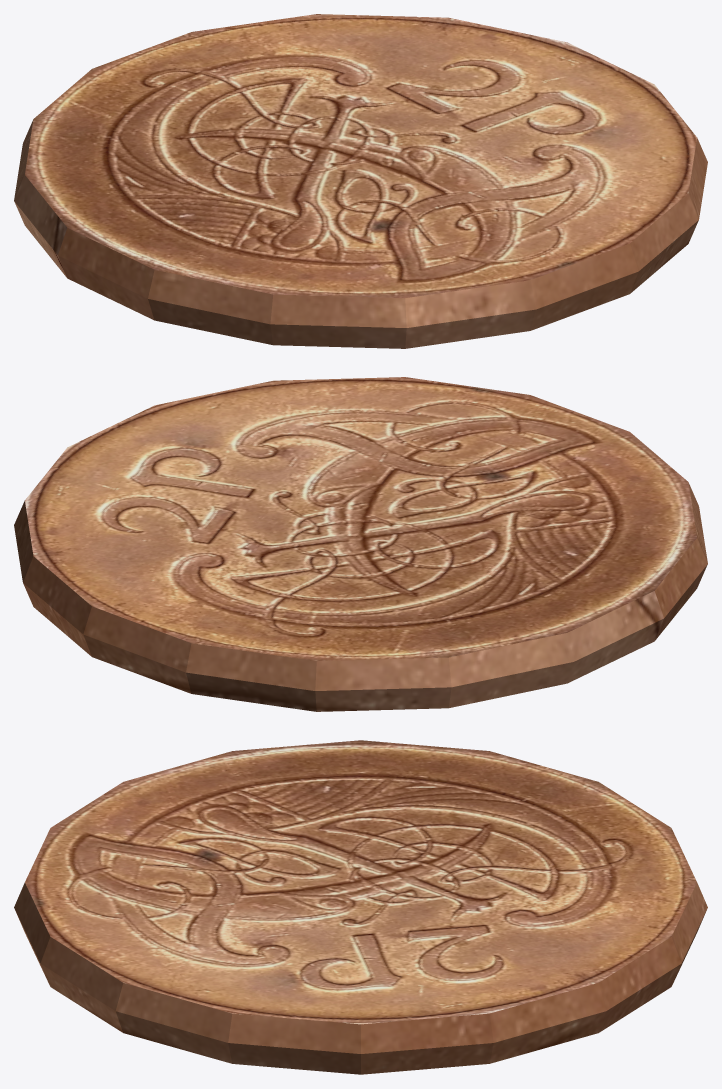
The model's file is coin.glb.
3 renders of one model, top to bottom at view 1: azimuth 30°, elevation 25°; view 2: azimuth 150°, elevation 25°; view 3: azimuth 270°, elevation 25°, orthographic.
Parts seen in each view (by area): view 1: Cylinder; view 2: Cylinder; view 3: Cylinder.
Part boxes in pixels (box(x1,y1,x2,y2)): Cylinder: box(14, 14, 707, 348); Cylinder: box(14, 377, 707, 711); Cylinder: box(14, 740, 707, 1074).
Bounding box in the file's own units: 0.025 × 0.002 × 0.025.
1 material, 1 textured.
